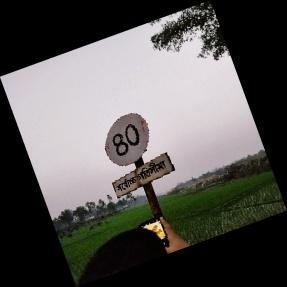Speed-limit: (103, 111, 175, 196)
